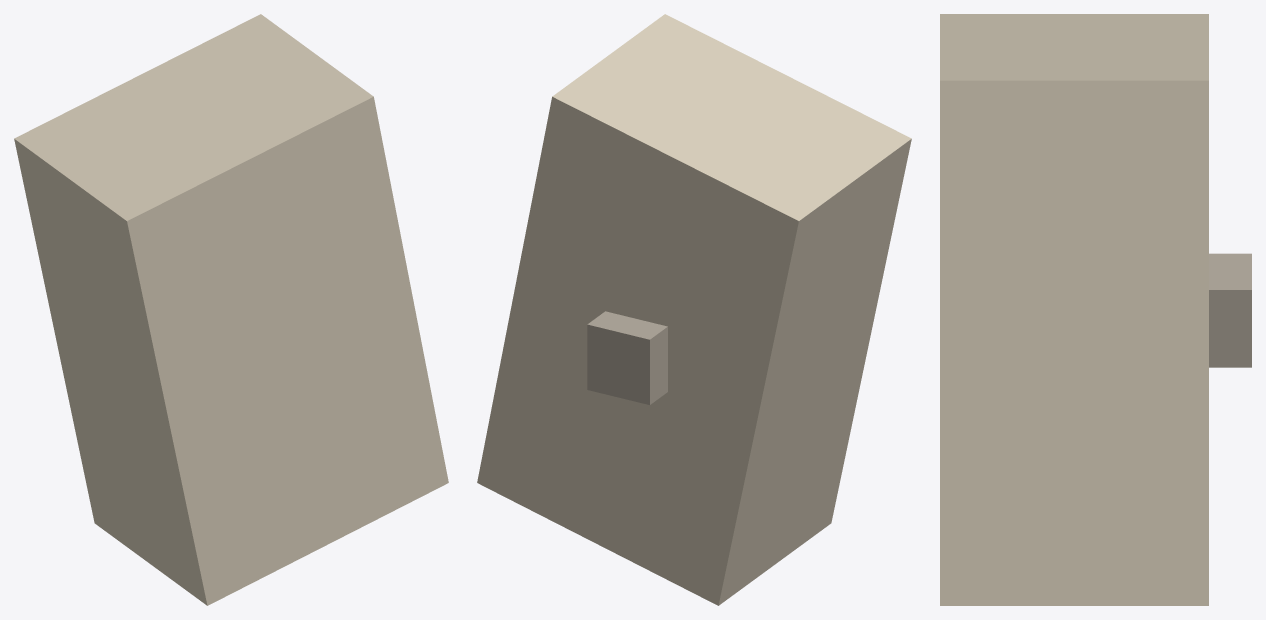
The model's file is historic-palestine-10_26_3523_3201.glb.
3 views of the same model, side by side, from view 1: azimuth 30°, elevation 25°; view 2: azimuth 150°, elevation 25°; view 3: azimuth 270°, elevation 25° (orthographic). The views are drawn at different scales.
Visible parts, largest first — view 1: Building_; view 2: Building_, Roof access hut; view 3: Building_, Roof access hut.
Boxes of the visible parts, x1=… form: Building_: x1=14, y1=14, x2=448, y2=605; Building_: x1=477, y1=14, x2=911, y2=605; Roof access hut: x1=587, y1=311, x2=667, y2=404; Building_: x1=940, y1=14, x2=1208, y2=605; Roof access hut: x1=1209, y1=253, x2=1251, y2=367.
Bounding box in the file's own units: 12.35 × 17.18 × 8.7.
